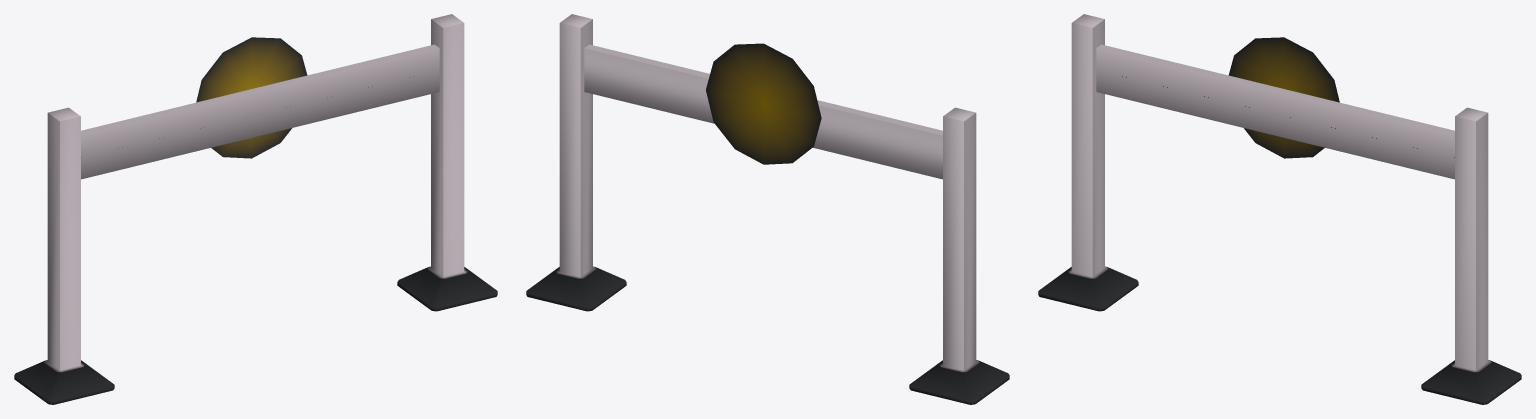
Rendered from SM_ER_RoadWorkHigh.fbx.
3 views of the same model, side by side, from view 1: azimuth 30°, elevation 25°; view 2: azimuth 150°, elevation 25°; view 3: azimuth 330°, elevation 25° (orthographic).
Parts seen in each view (by area): view 1: SM_ER_RoadWorkHigh; view 2: SM_ER_RoadWorkHigh; view 3: SM_ER_RoadWorkHigh.
Part boxes in pixels (x1,y1,x2,y2): SM_ER_RoadWorkHigh: (14, 14, 497, 404); SM_ER_RoadWorkHigh: (526, 14, 1009, 404); SM_ER_RoadWorkHigh: (1038, 14, 1521, 404).
Size of the model in its own units: 561 by 354 by 82.37.
